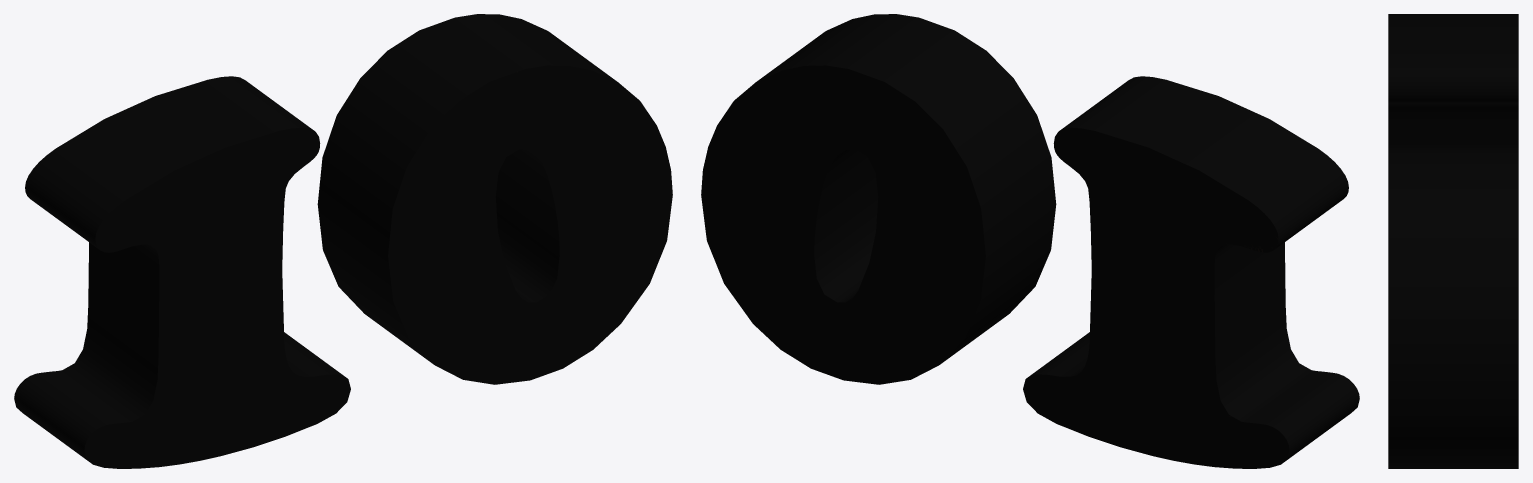
Rendered from sepuluh 2.fbx.
3 views of the same model, side by side, from view 1: azimuth 30°, elevation 25°; view 2: azimuth 150°, elevation 25°; view 3: azimuth 270°, elevation 25° (orthographic). The views are drawn at different scales.
Visible parts, largest first — view 1: node_id35; view 2: node_id35; view 3: node_id35.
Part boxes in pixels (x1,y1,x2,y2): node_id35: (14,14,672,468); node_id35: (701,14,1359,468); node_id35: (1388,14,1518,468).
Size of the model in its own units: 0.0725 by 0.0368 by 0.015.
Materials: 1 (1 with a texture image).
